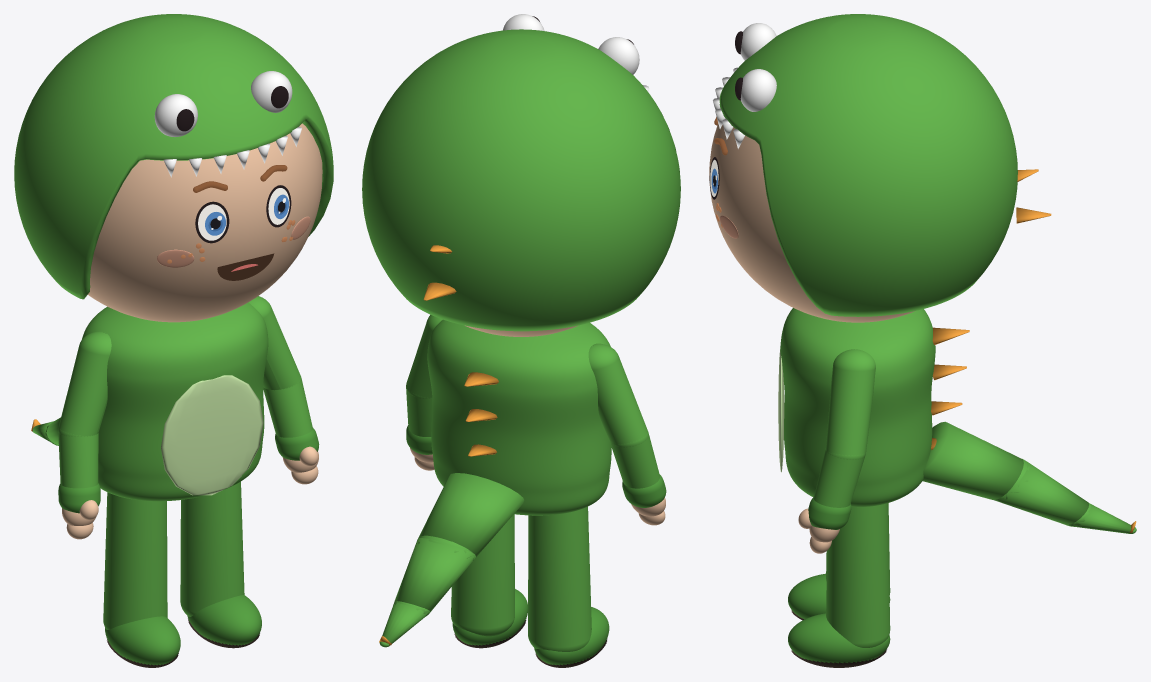
Rendered from broertje_dino.glb.
The picture shows the model from 3 angles, left to right: view 1: azimuth 30°, elevation 25°; view 2: azimuth 150°, elevation 25°; view 3: azimuth 270°, elevation 25°; orthographic projection.
Parts seen in each view (by area): view 1: broertje_dino_capuchon, broertje_dino_hoofd, broertje_dino_romp, broertje_dino_dino_buik, broertje_dino_been_R, broertje_dino_been_L, broertje_dino_bovenarm_R, broertje_dino_schoen_R, broertje_dino_schoen_L, broertje_dino_bovenarm_L, broertje_dino_onderarm_R, broertje_dino_onderarm_L (+6 smaller); view 2: broertje_dino_capuchon, broertje_dino_romp, broertje_dino_been_R, broertje_dino_been_L, broertje_dino_dino_staart0, broertje_dino_bovenarm_R, broertje_dino_dino_staart1, broertje_dino_onderarm_R, broertje_dino_schoen_R, broertje_dino_bovenarm_L, broertje_dino_schoen_L, broertje_dino_dino_staart2 (+5 smaller); view 3: broertje_dino_capuchon, broertje_dino_romp, broertje_dino_hoofd, broertje_dino_been_L, broertje_dino_dino_staart0, broertje_dino_bovenarm_L, broertje_dino_dino_staart1, broertje_dino_schoen_L, broertje_dino_onderarm_L, broertje_dino_schoen_R, broertje_dino_dino_oog_L, broertje_dino_manchet_L (+3 smaller).
Boxes of the visible parts, <box> form: broertje_dino_capuchon: <box>14,14,333,299</box>; broertje_dino_hoofd: <box>88,123,322,322</box>; broertje_dino_romp: <box>82,302,268,501</box>; broertje_dino_dino_buik: <box>161,375,263,495</box>; broertje_dino_been_R: <box>103,492,167,629</box>; broertje_dino_been_L: <box>180,481,244,616</box>; broertje_dino_bovenarm_R: <box>59,331,111,436</box>; broertje_dino_schoen_R: <box>105,616,180,665</box>; broertje_dino_schoen_L: <box>187,595,261,645</box>; broertje_dino_bovenarm_L: <box>248,296,300,390</box>; broertje_dino_onderarm_R: <box>58,430,98,488</box>; broertje_dino_onderarm_L: <box>263,379,312,437</box>; broertje_dino_capuchon: <box>362,29,680,331</box>; broertje_dino_romp: <box>427,319,611,515</box>; broertje_dino_been_R: <box>528,506,591,651</box>; broertje_dino_been_L: <box>451,514,514,636</box>; broertje_dino_dino_staart0: <box>418,473,524,556</box>; broertje_dino_bovenarm_R: <box>588,343,647,446</box>; broertje_dino_dino_staart1: <box>394,538,475,611</box>; broertje_dino_onderarm_R: <box>610,432,659,488</box>; broertje_dino_schoen_R: <box>534,607,609,665</box>; broertje_dino_bovenarm_L: <box>406,314,442,397</box>; broertje_dino_schoen_L: <box>452,589,527,645</box>; broertje_dino_dino_staart2: <box>382,602,430,643</box>; broertje_dino_capuchon: <box>719,14,1017,316</box>; broertje_dino_romp: <box>780,308,935,507</box>; broertje_dino_hoofd: <box>709,119,914,322</box>; broertje_dino_been_L: <box>826,503,890,647</box>; broertje_dino_dino_staart0: <box>923,421,1023,499</box>; broertje_dino_bovenarm_L: <box>825,349,875,459</box>; broertje_dino_dino_staart1: <box>994,461,1088,524</box>; broertje_dino_schoen_L: <box>788,613,890,663</box>; broertje_dino_onderarm_L: <box>813,450,865,507</box>; broertje_dino_schoen_R: <box>788,573,890,619</box>; broertje_dino_dino_oog_L: <box>740,69,776,111</box>; broertje_dino_manchet_L: <box>808,497,851,529</box>.
Bounding box in the file's own units: 0.5805 × 1.23 × 0.7758.
